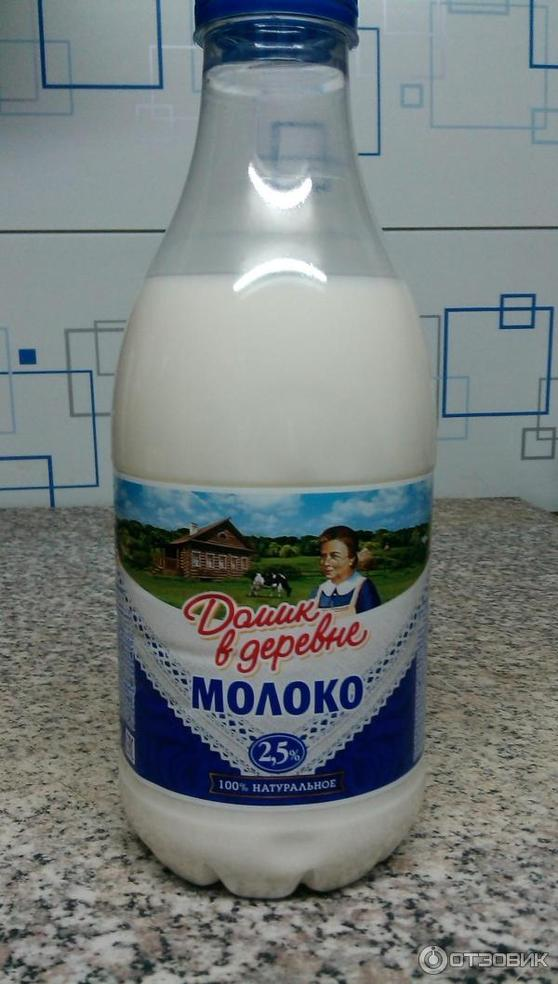milk: (107, 10, 428, 908)
